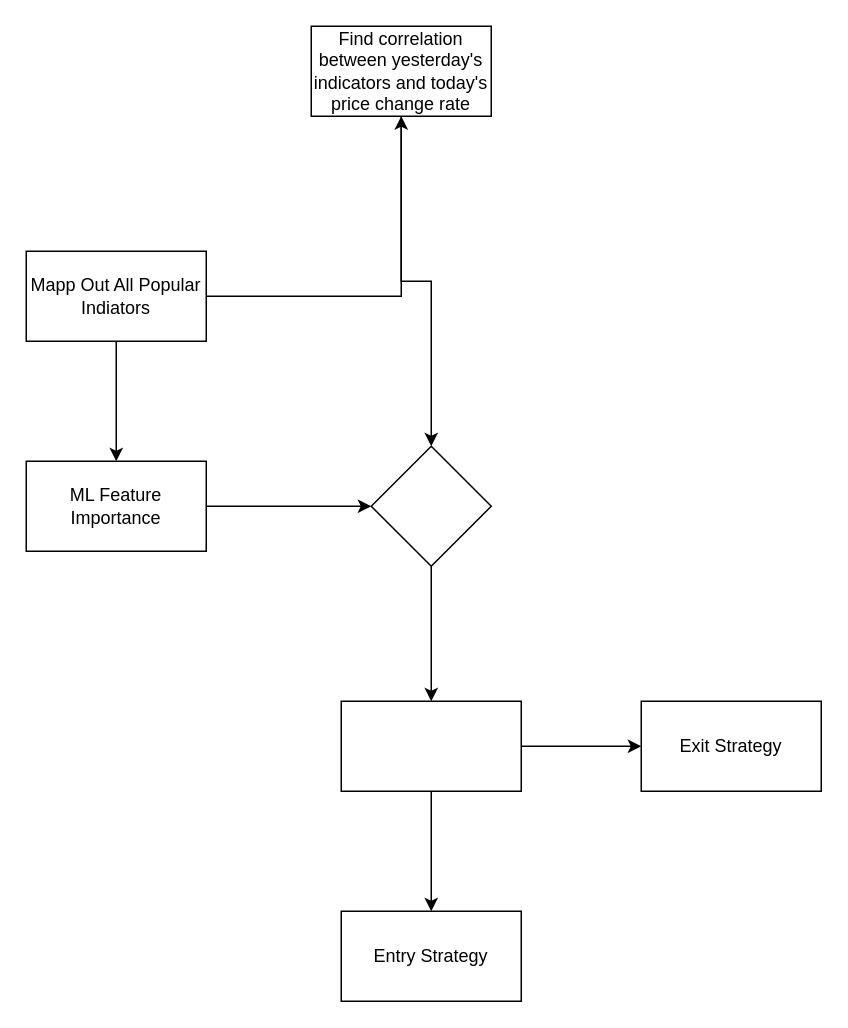
The diagram is 848 pixels wide and 1028 high, and some of its shapes have lost their labels. Here are the shapes that lost their labels. From the top down, the centre of each, then its label:
At [430,505]: "Visualization".
At [430,745]: "Identify the best indicators".
